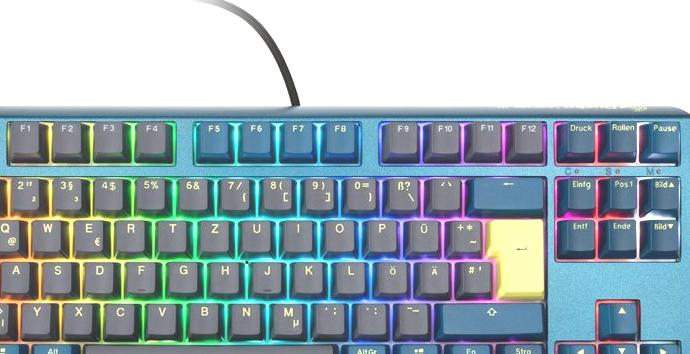0: (345, 175, 377, 210)
1: (1, 175, 16, 210)
2: (8, 175, 41, 211)
3: (50, 175, 83, 211)
4: (92, 175, 124, 210)
5: (134, 175, 166, 210)
6: (177, 175, 209, 210)
7: (218, 175, 250, 211)
8: (260, 175, 293, 210)
9: (303, 175, 335, 210)
a: (1, 258, 29, 292)
accent: (429, 175, 460, 210)
ae: (418, 258, 449, 293)
alt-left: (30, 340, 73, 354)
altgr-right: (345, 341, 387, 354)
b: (186, 299, 219, 334)
c: (102, 300, 136, 335)
caret: (1, 174, 16, 210)
comma: (314, 300, 346, 335)
d: (82, 258, 114, 293)
del: (471, 174, 543, 209)
e: (72, 216, 104, 253)
enter: (485, 216, 544, 296)
f: (124, 259, 156, 293)
g: (166, 259, 198, 292)
h: (207, 259, 240, 293)
hash: (459, 258, 490, 293)
i: (281, 217, 313, 251)
j: (250, 258, 282, 294)
k: (292, 258, 324, 293)
keyboard: (1, 105, 690, 354)
l: (334, 258, 365, 293)
less: (1, 299, 16, 335)
m: (270, 300, 304, 336)
minus: (396, 300, 428, 334)
n: (228, 300, 261, 335)
o: (322, 217, 355, 251)
oe: (375, 259, 407, 293)
p: (366, 216, 397, 251)
plus: (450, 216, 481, 252)
point: (356, 300, 388, 334)
q: (1, 216, 20, 253)
r: (113, 217, 146, 252)
s: (40, 258, 72, 293)
shift-left: (1, 300, 21, 334)
shift-lock: (1, 258, 33, 293)
shift-right: (439, 299, 542, 334)
space: (81, 341, 336, 354)
ss: (386, 175, 419, 210)
strg-right: (503, 340, 543, 354)
t: (155, 217, 187, 251)
tab: (1, 216, 26, 251)
u: (239, 217, 272, 252)
ue: (407, 216, 439, 252)
v: (145, 300, 177, 334)
w: (30, 216, 62, 251)
x: (61, 300, 93, 334)
y: (20, 299, 51, 334)
z: (198, 217, 230, 252)
